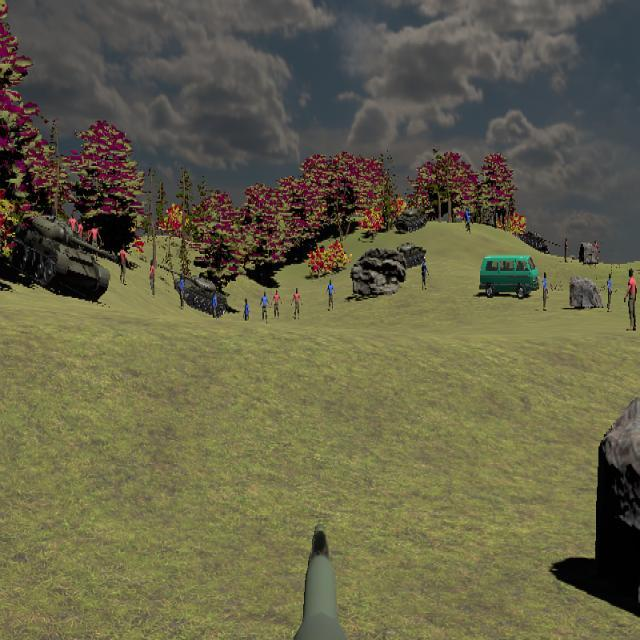Human: (624, 267, 638, 331)
Tank: (7, 212, 115, 301), (160, 265, 229, 317), (395, 205, 428, 233)
car: (479, 255, 539, 299)
